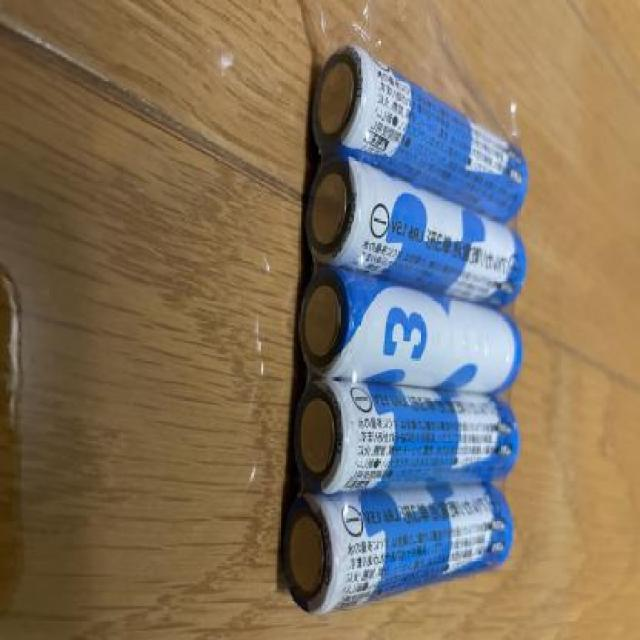hazardous waste: (290, 44, 528, 212), (289, 158, 534, 317), (271, 262, 531, 396), (276, 477, 516, 620), (255, 382, 534, 504)
